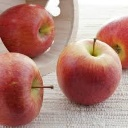apple: (1, 52, 48, 128)
